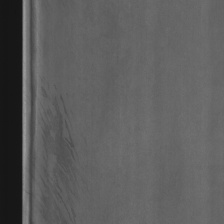water_spot: (26, 0, 81, 224)
